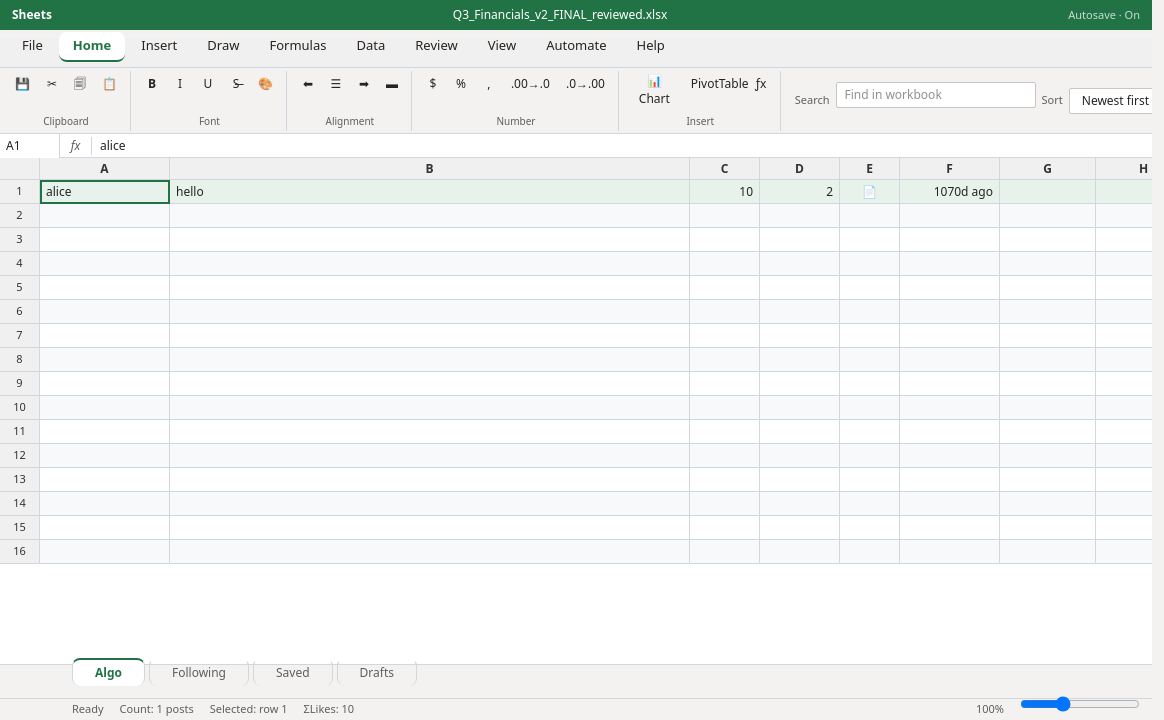
LedgerPage › zoom slider updates the status bar zoom label
The image size is (1164, 720).
Set the slider with test id "ledger-zoom-slider" to "150": coordinates (1095, 704) [1020,686,1140,719]
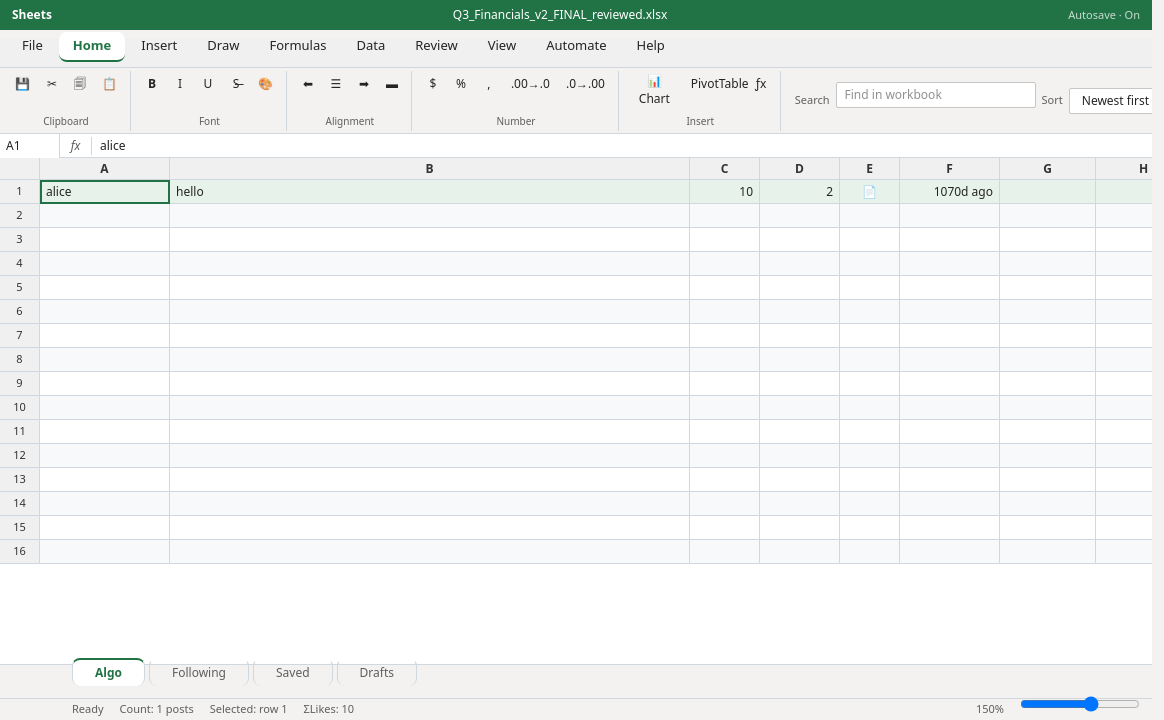
expect the text with test id "ledger-status-zoom" reads "150%": met, box [976,701,1004,718]
